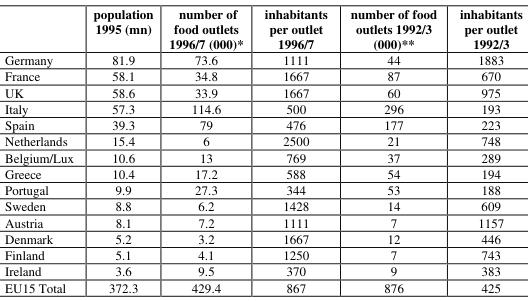table: (4, 4, 521, 295)
table column: (338, 4, 447, 295), (160, 4, 253, 295), (253, 4, 338, 295), (4, 4, 82, 295), (82, 4, 160, 295), (447, 4, 521, 295)
table column header: (4, 4, 521, 51)
table row: (4, 4, 521, 51), (4, 99, 521, 116), (4, 164, 521, 181), (4, 229, 521, 246), (4, 278, 521, 295), (4, 51, 521, 67), (4, 67, 521, 83), (4, 83, 521, 99), (4, 116, 521, 132), (4, 132, 521, 148), (4, 148, 521, 164), (4, 181, 521, 197), (4, 197, 521, 213), (4, 213, 521, 229), (4, 246, 521, 262), (4, 262, 521, 278)
